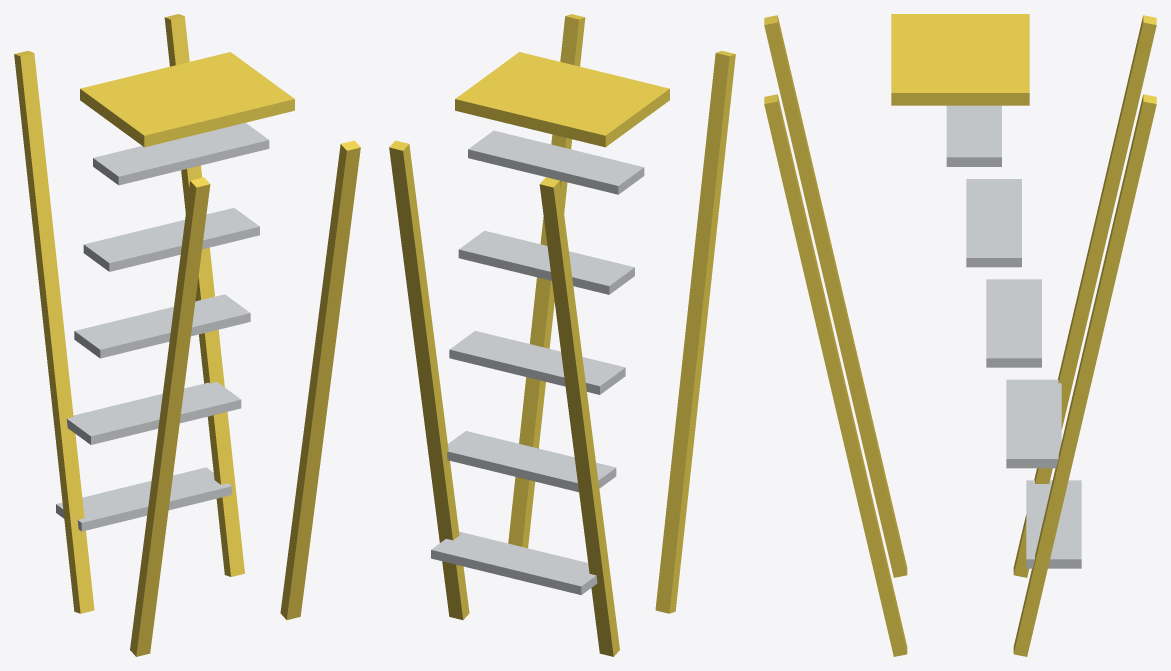
File: ladder_step.glb
3 views of the same model, side by side, from view 1: azimuth 30°, elevation 25°; view 2: azimuth 150°, elevation 25°; view 3: azimuth 270°, elevation 25° (orthographic). The views are drawn at different scales.
Visible parts, largest first — view 1: ladder_step; view 2: ladder_step; view 3: ladder_step.
Part boxes in pixels (x1=…): ladder_step: x1=14, y1=14, x2=360, y2=656; ladder_step: x1=389, y1=14, x2=735, y2=656; ladder_step: x1=764, y1=14, x2=1156, y2=656.
Size of the model in its own units: 0.59 by 1.78 by 1.13.
